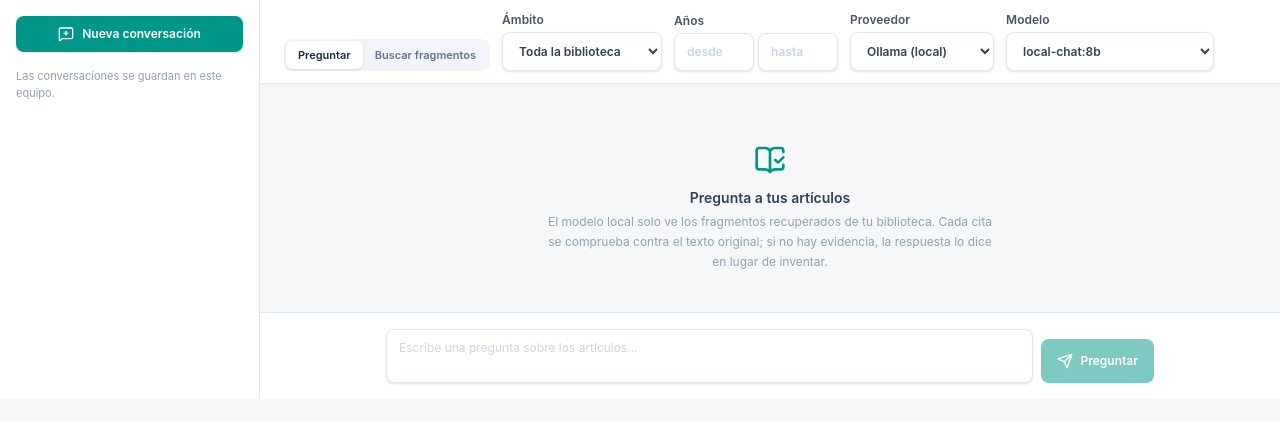
Test case: AssistantPage › labels discarded answers instead of presenting them as evidence
Type "¿Exactitud?" into the text box labelled "pregunta". click: (709, 356)
box: [386, 329, 1032, 383]
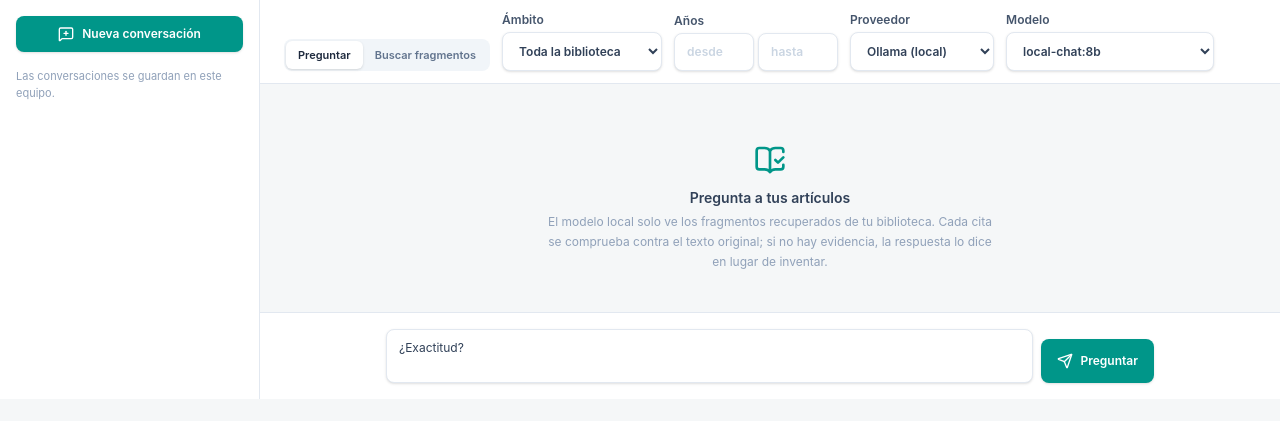
Click the button "Preguntar". click: (1097, 361)
box: [1040, 339, 1154, 383]
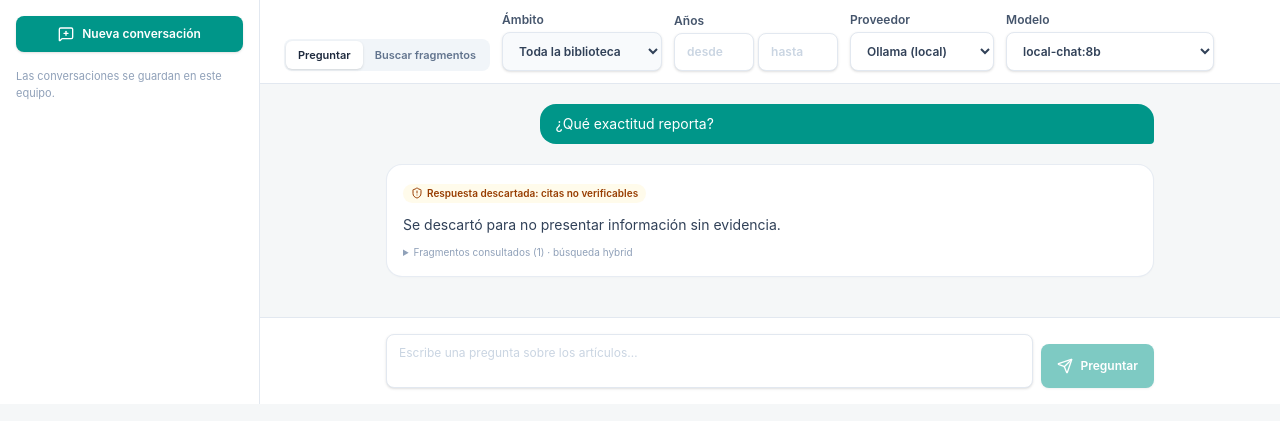
Check: the text "Respuesta descartada: citas no verificables" is shown, box [403, 184, 646, 202]
